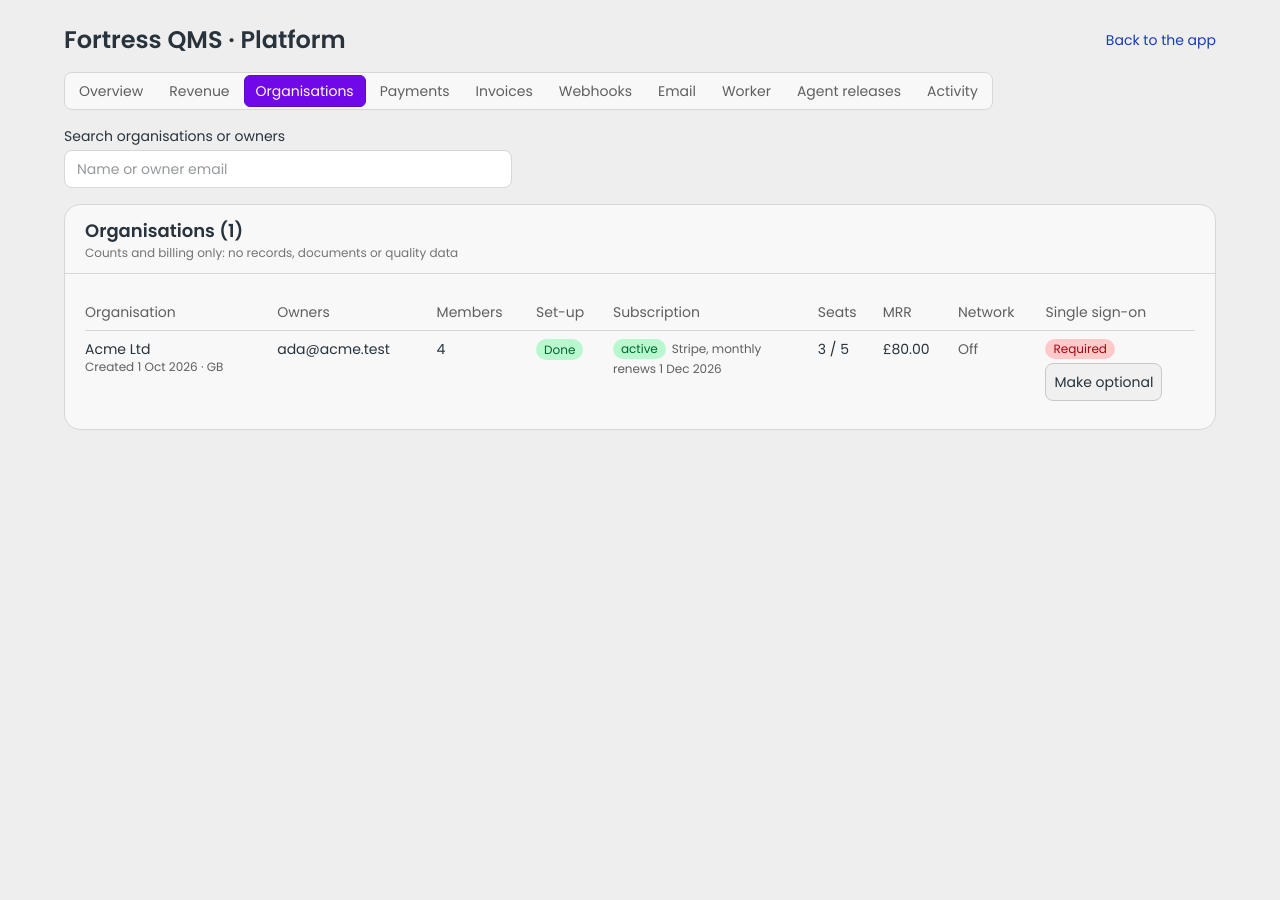
Test case: organisations › makes single sign-on optional again for an organisation whose company sign-in fails
This screenshot has width=1280, height=900.
Expected: the text "Required" is shown, [1046,339,1115,359]
Click the button with aria-label "Make single sign-on optional for": click(1104, 382) [1046,363,1162,401]
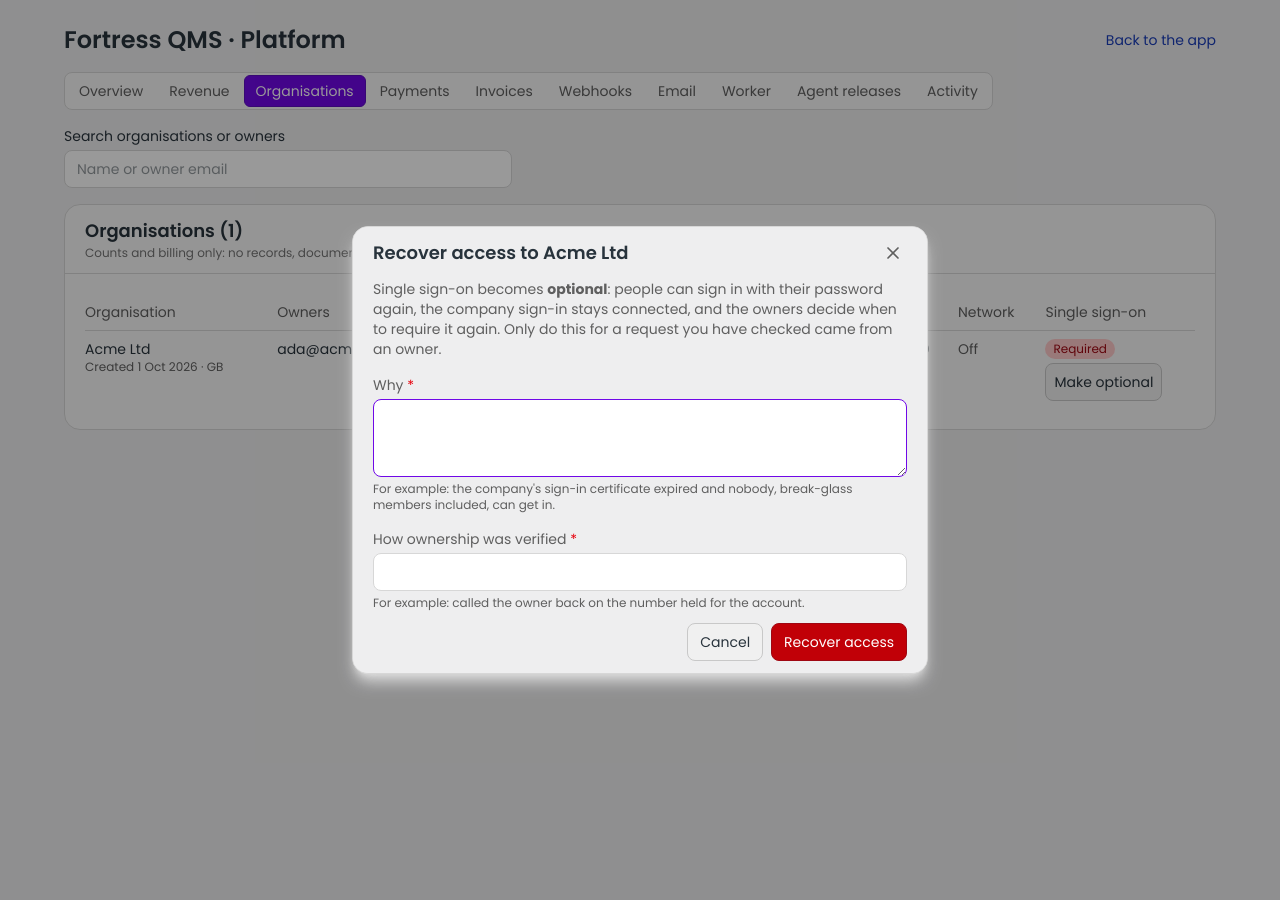
Expected: the dialog shows "the company sign-in stays connected", [373,279,897,339]
In the text box labelled "Why": (640, 438) [373,399,907,477], type "The certificate expired overnight"
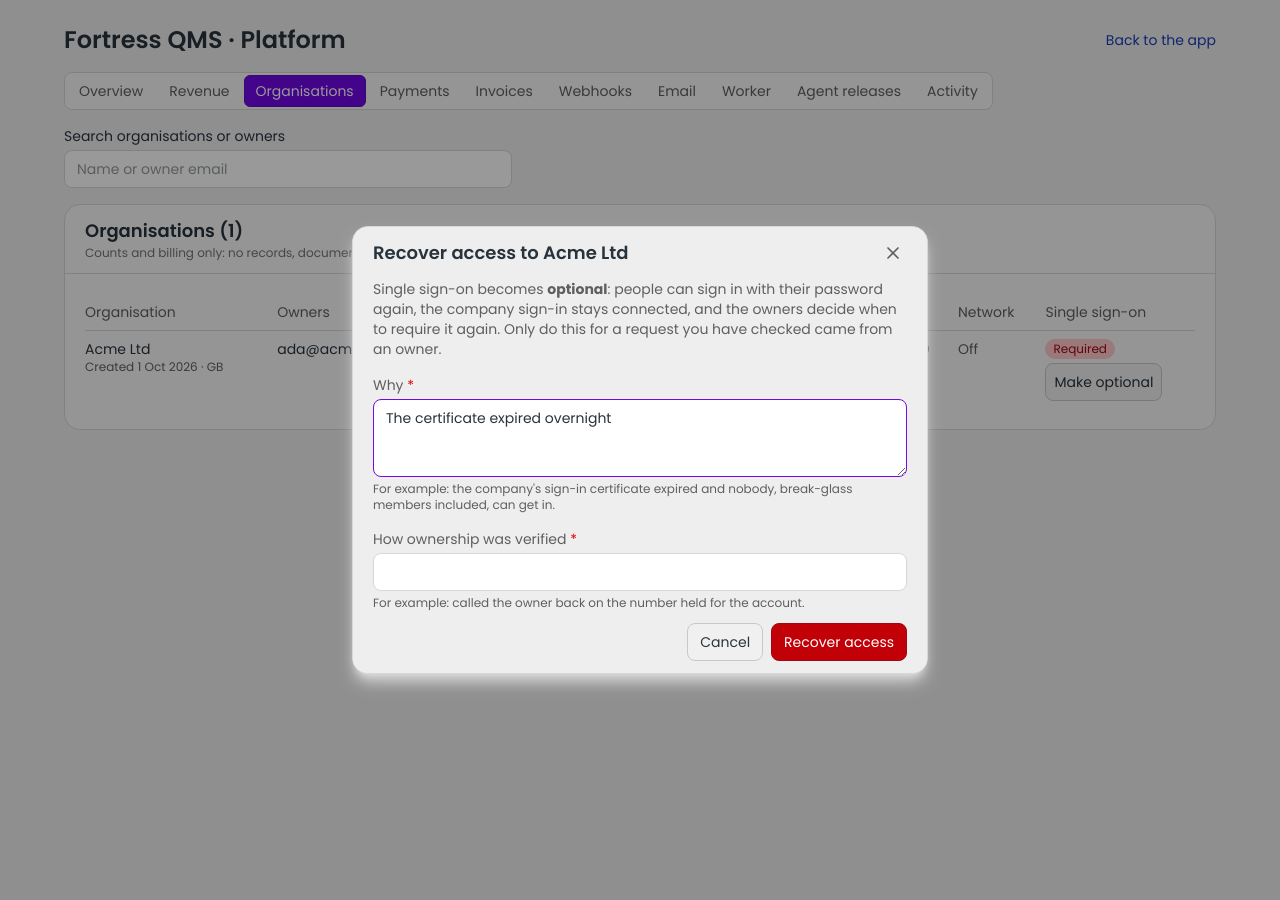
In the field labelled "How ownership was verified": (640, 572) [373,553,907,591], type "Called the owner back on file"
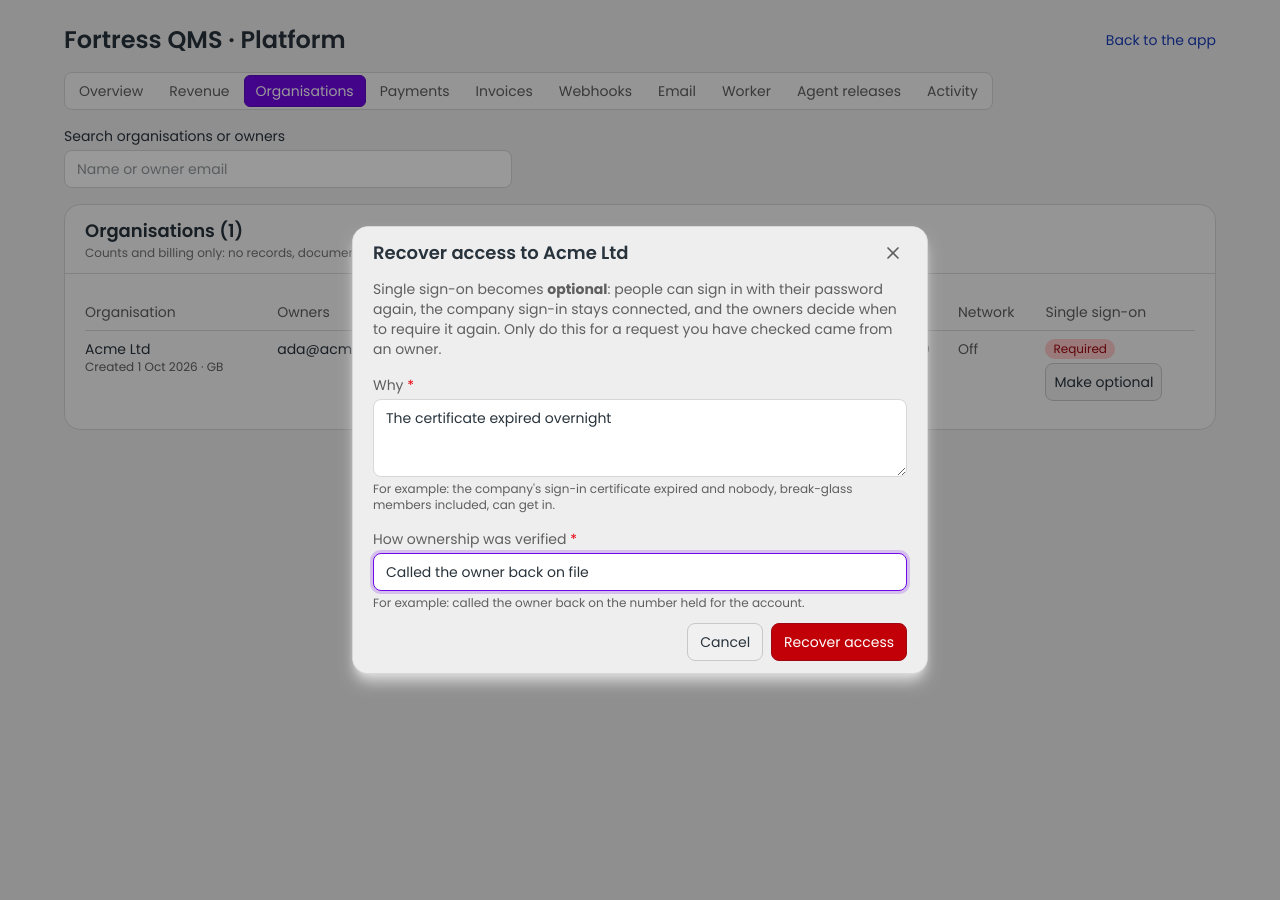
Click the button "Recover access": click(839, 642) [771,623,907,661]
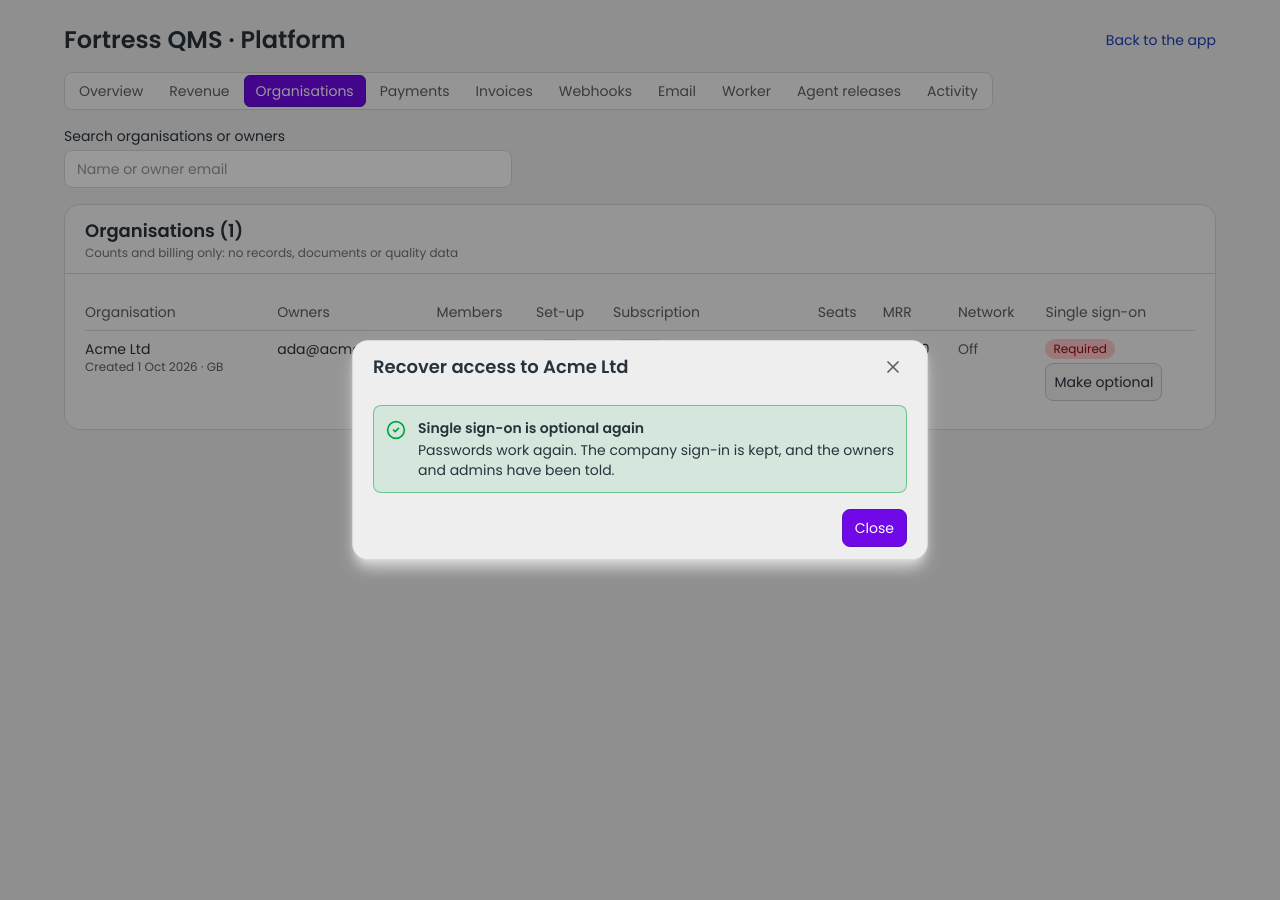
Expected: the text "Single sign-on is optional again" is shown, [418,418,644,438]
